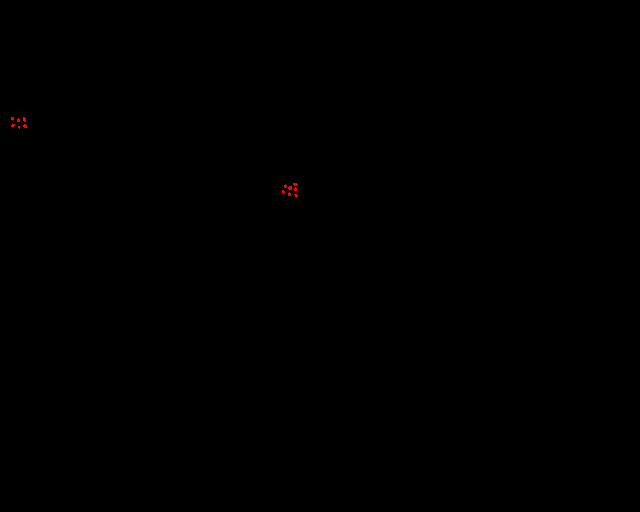Target: (23, 124, 27, 128), (288, 186, 292, 190), (23, 117, 26, 122), (293, 183, 298, 186), (17, 118, 20, 122), (11, 124, 15, 127), (284, 184, 287, 188), (294, 187, 297, 191), (288, 192, 291, 196), (294, 194, 298, 197), (11, 117, 14, 120), (282, 190, 285, 193), (18, 126, 20, 129)
